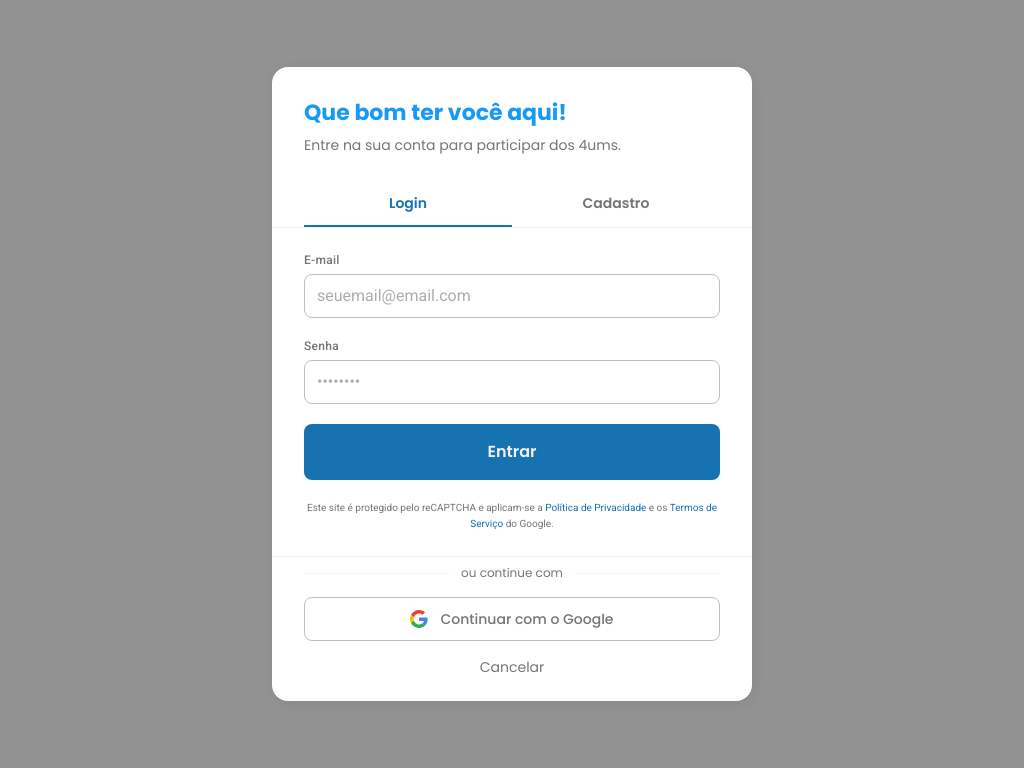
Scenario: LoginModal › alterna para cadastro
The width and height of the screenshot is (1024, 768).
Click the button "Cadastro": (616, 204) left=512, top=181, right=720, bottom=227
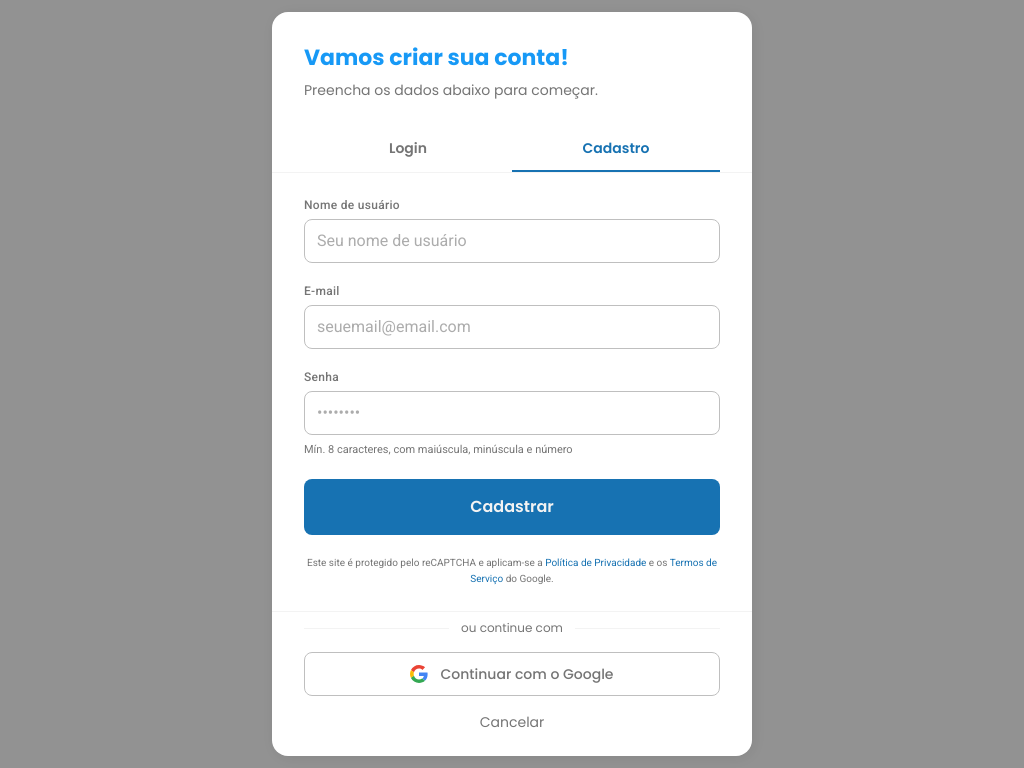
Expected: the heading "Vamos criar sua conta!" is shown, left=304, top=42, right=569, bottom=73
Expected: the field with placeholder "Seu nome de usuário" is shown, left=304, top=219, right=720, bottom=263
